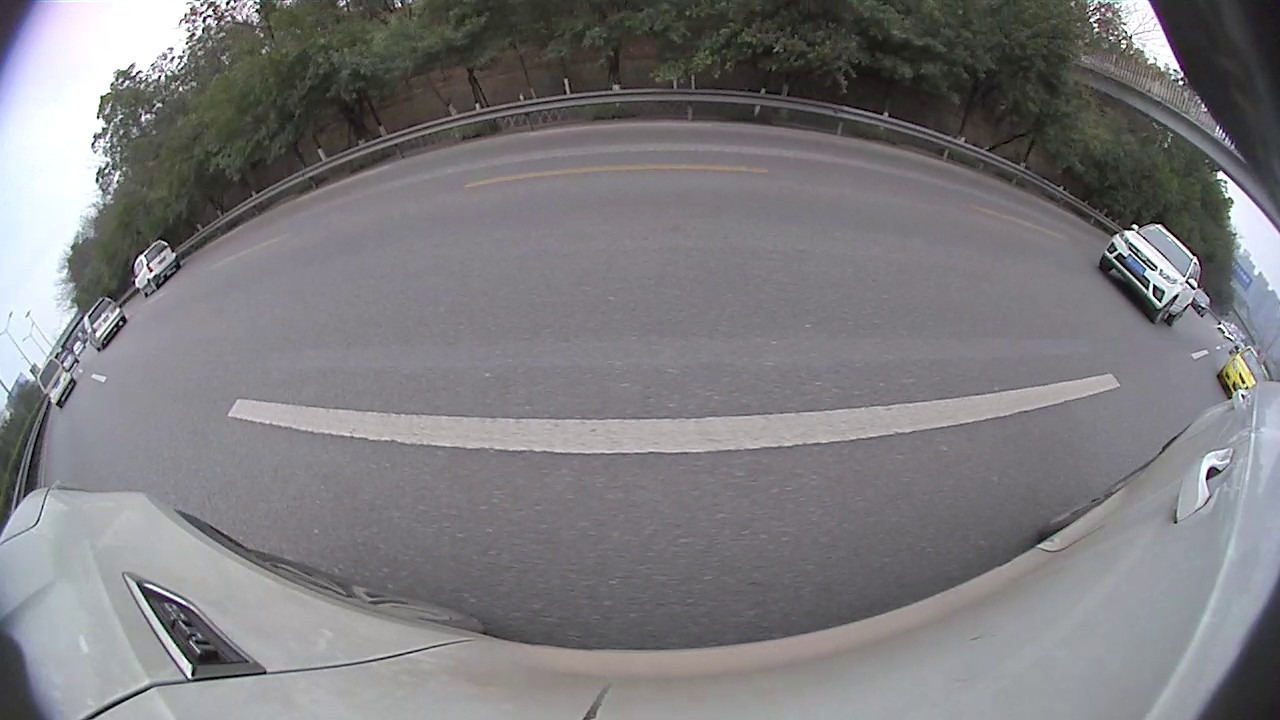car: (1, 157, 436, 496), (1055, 249, 1279, 411), (587, 108, 810, 260), (807, 146, 898, 223), (514, 148, 587, 204)
front: (385, 215, 430, 276), (1076, 267, 1116, 312)
rear: (82, 346, 210, 480), (1209, 358, 1250, 413), (810, 181, 831, 217)
rider: (1065, 222, 1178, 262)
